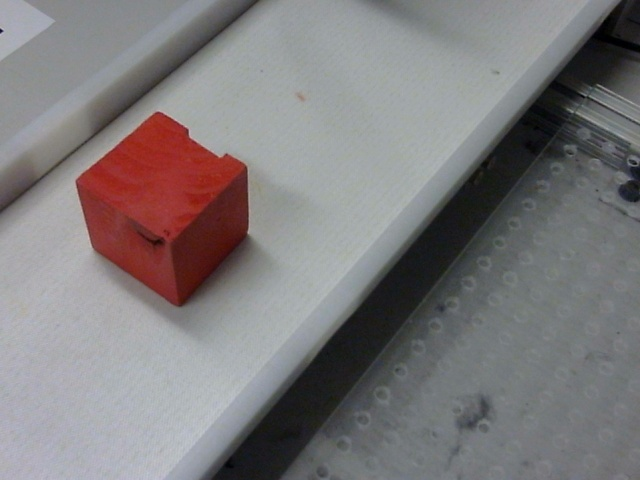RedBlock: (75, 110, 250, 307)
